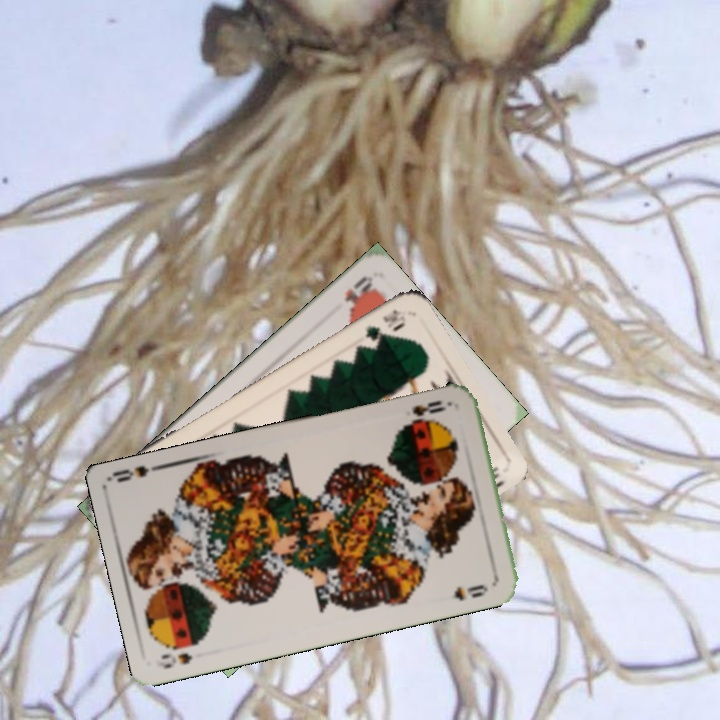G10: (361, 305, 408, 344)
HO: (340, 272, 378, 313)
SO: (408, 396, 449, 419), (157, 648, 194, 671)
